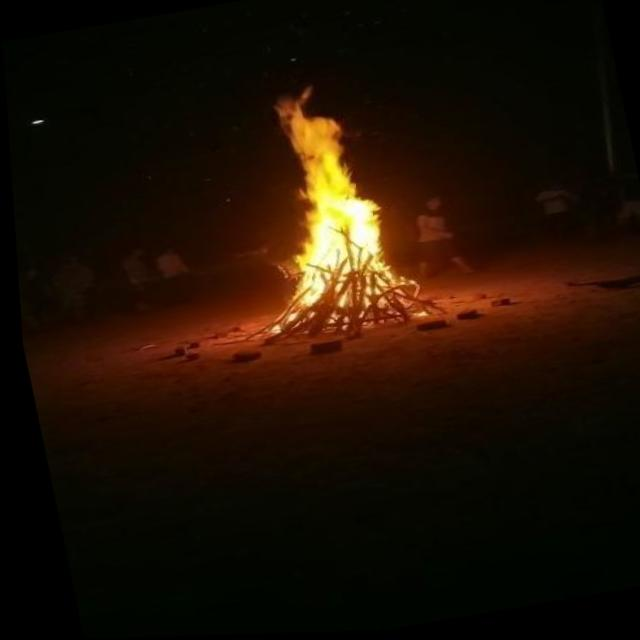fire: (216, 68, 425, 308)
